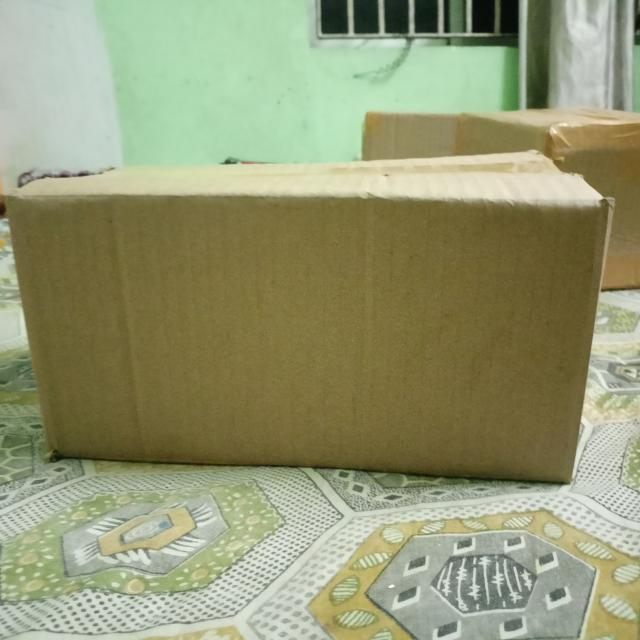box: (6, 198, 613, 487)
